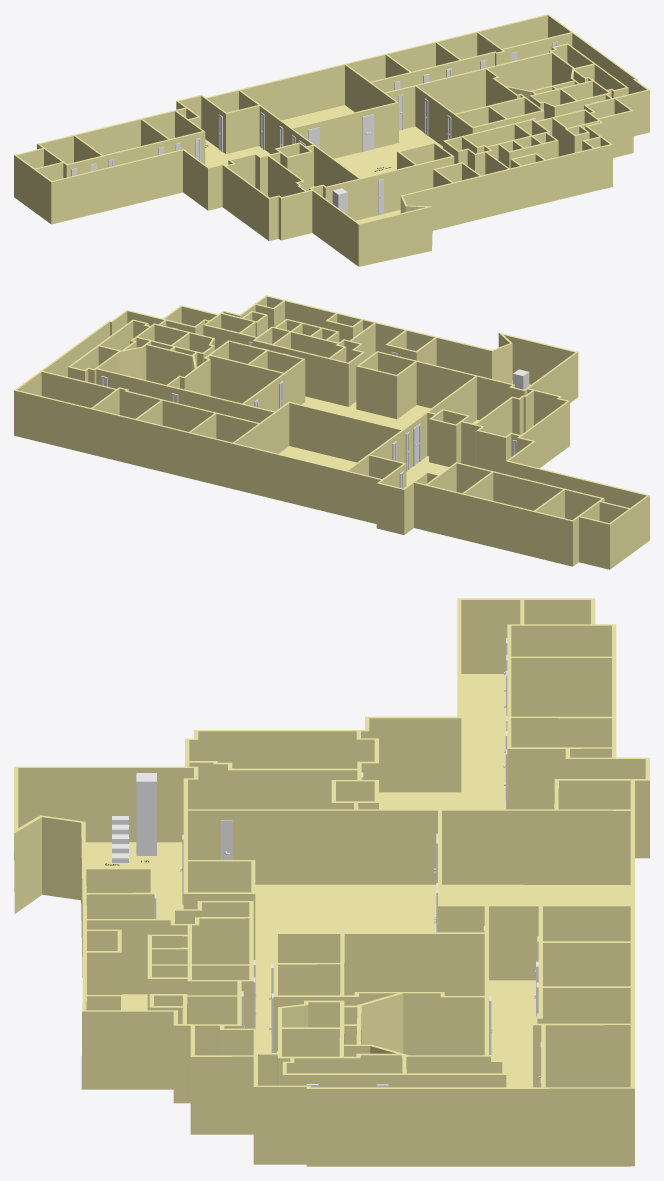
The model's file is SoC_COM_1_Level_2.glb.
The picture shows the model from 3 angles, top to bottom: view 1: azimuth 30°, elevation 25°; view 2: azimuth 150°, elevation 25°; view 3: azimuth 270°, elevation 25°; orthographic projection. The views are drawn at different scales.
Parts seen in each view (by area): view 1: Plane; view 2: Plane; view 3: Plane, Cabinet1, Stairs.
Part boxes in pixels (left/top/right/bottom): Plane: left=14, top=14, right=649, bottom=266; Plane: left=14, top=295, right=649, bottom=569; Plane: left=14, top=598, right=649, bottom=1166; Cabinet1: left=137, top=773, right=156, bottom=855; Stairs: left=112, top=816, right=128, bottom=862.
Bounding box in the file's own units: 34.09 × 2.8 × 18.68.
